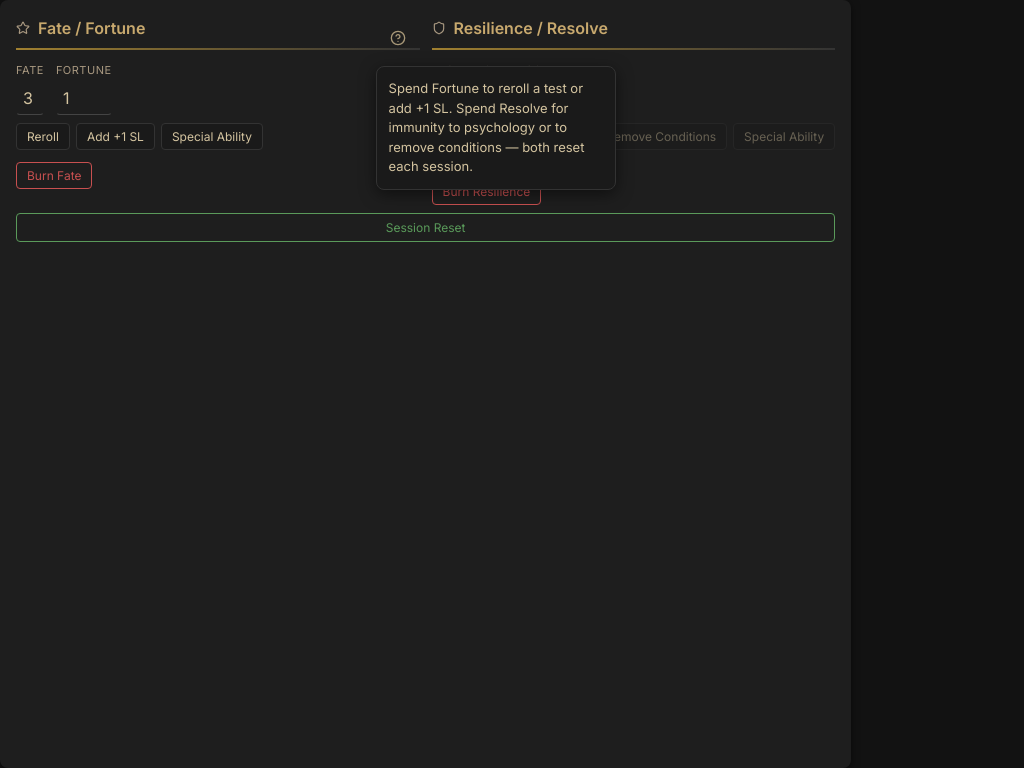
FortuneResolvePanel — Session Reset › clicking "Session Reset" opens a confirmation dialog
Click the button "Session Reset" at (426, 228), box [16,213,835,242]
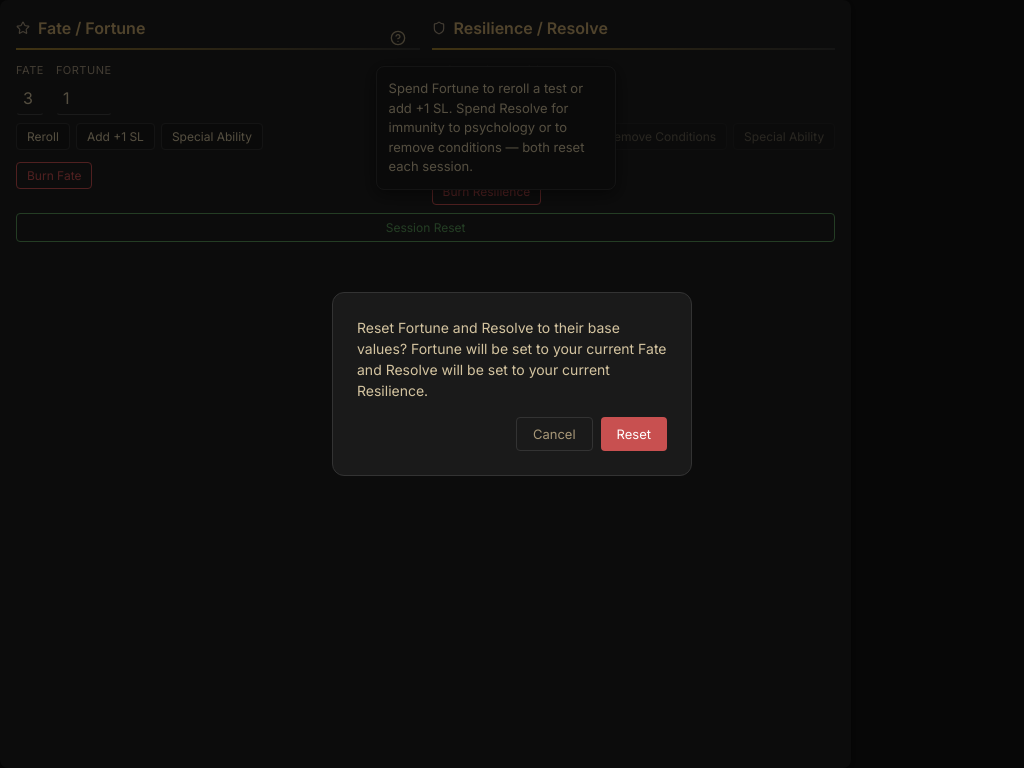
Result: the dialog is shown
Result: the text "Reset Fortune and Resolve" is shown at [357,319,666,399]
